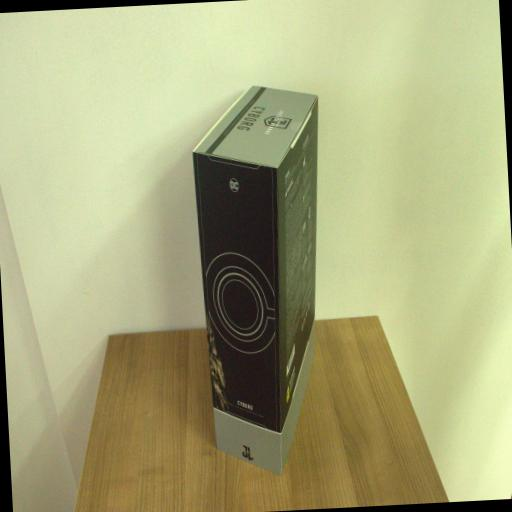Cyborg: (188, 80, 338, 479)
